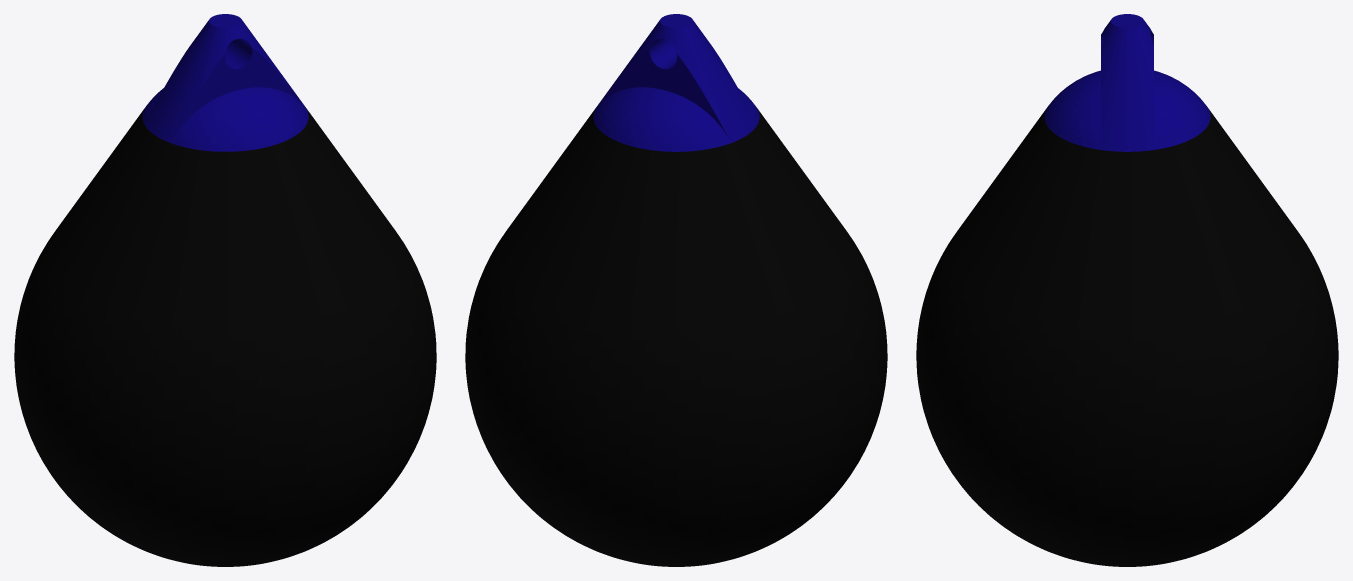
The model's file is BlackRopehold.dae.
3 views of the same model, side by side, from view 1: azimuth 30°, elevation 25°; view 2: azimuth 150°, elevation 25°; view 3: azimuth 270°, elevation 25° (orthographic).
Visible parts, largest first — view 1: RedRopehold; view 2: RedRopehold; view 3: RedRopehold.
Part boxes in pixels (x1,y1,x2,y2): RedRopehold: (14, 14, 436, 566); RedRopehold: (465, 14, 887, 566); RedRopehold: (916, 14, 1338, 566).
Size of the model in its own units: 203 by 203 by 279.
